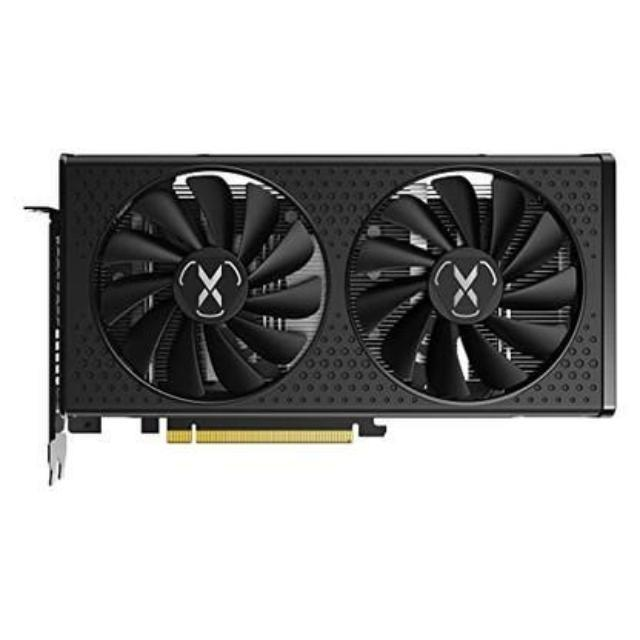GPU: (42, 148, 626, 466)
